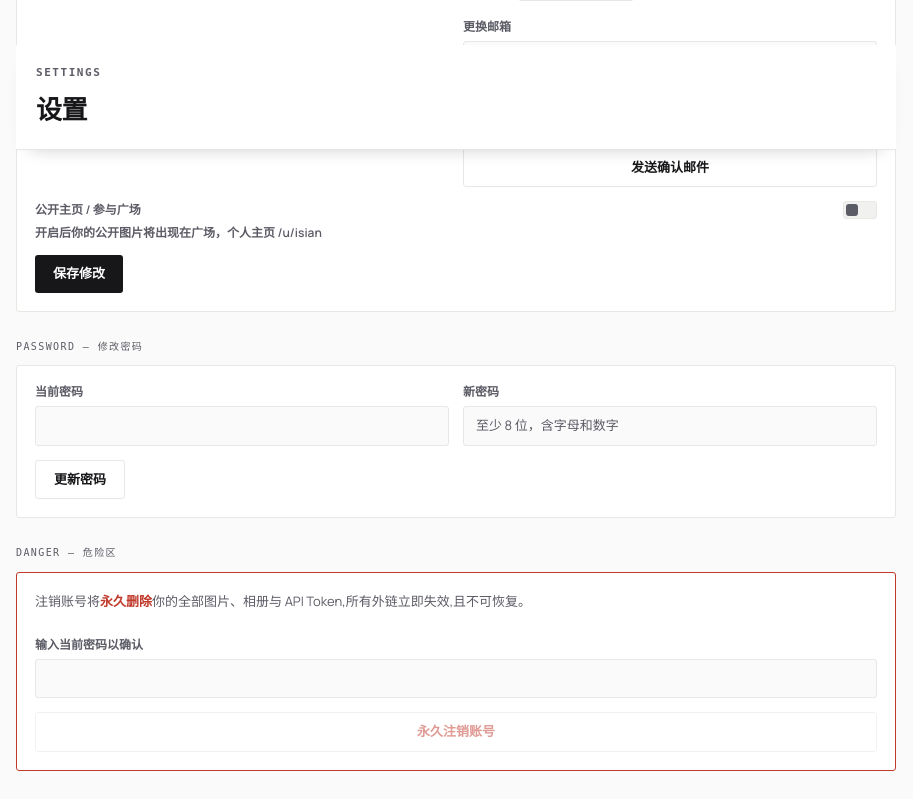
改密码：旧密码错显示行内错误且无全局 toast
(page scrolled)
In the password field labelled "当前密码": {"x": 242, "y": 426} [35,406,449,446], type "wrong-old-1"
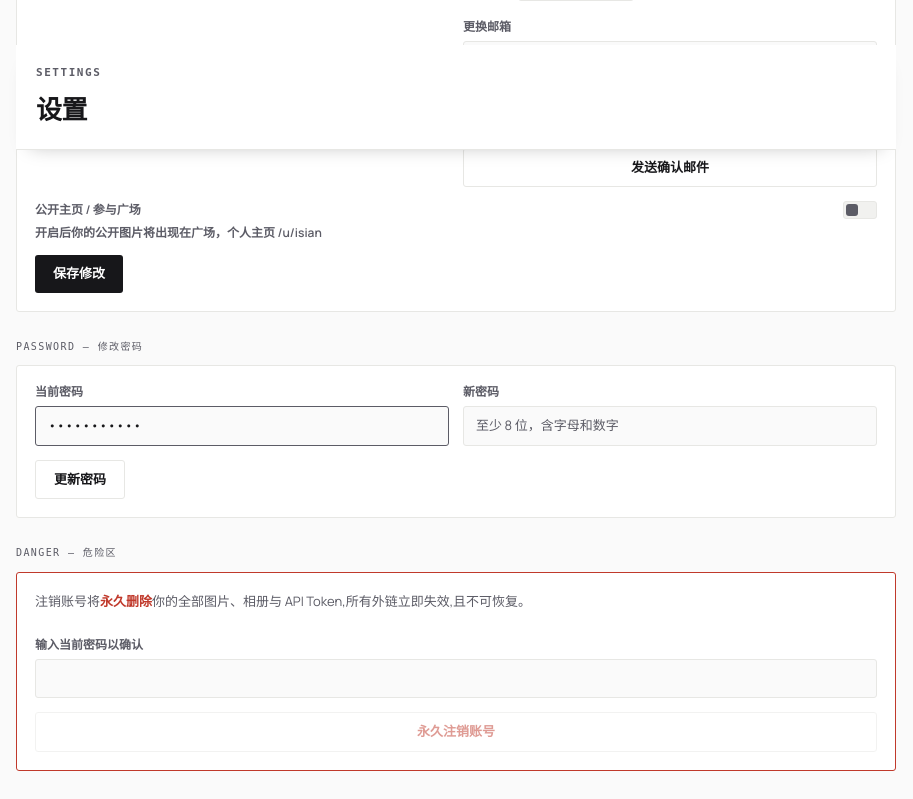
In the password field labelled "新密码": {"x": 670, "y": 426} [463,406,877,446], type "newpass4word"
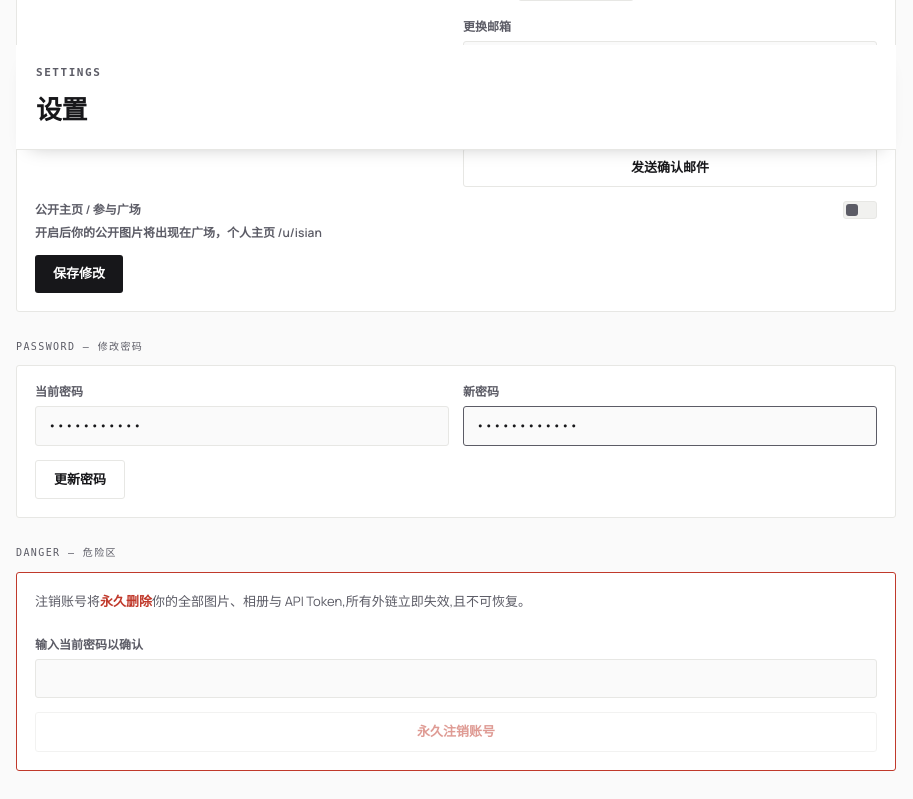
Click the button "更新密码": {"x": 80, "y": 480} [35,460,125,499]
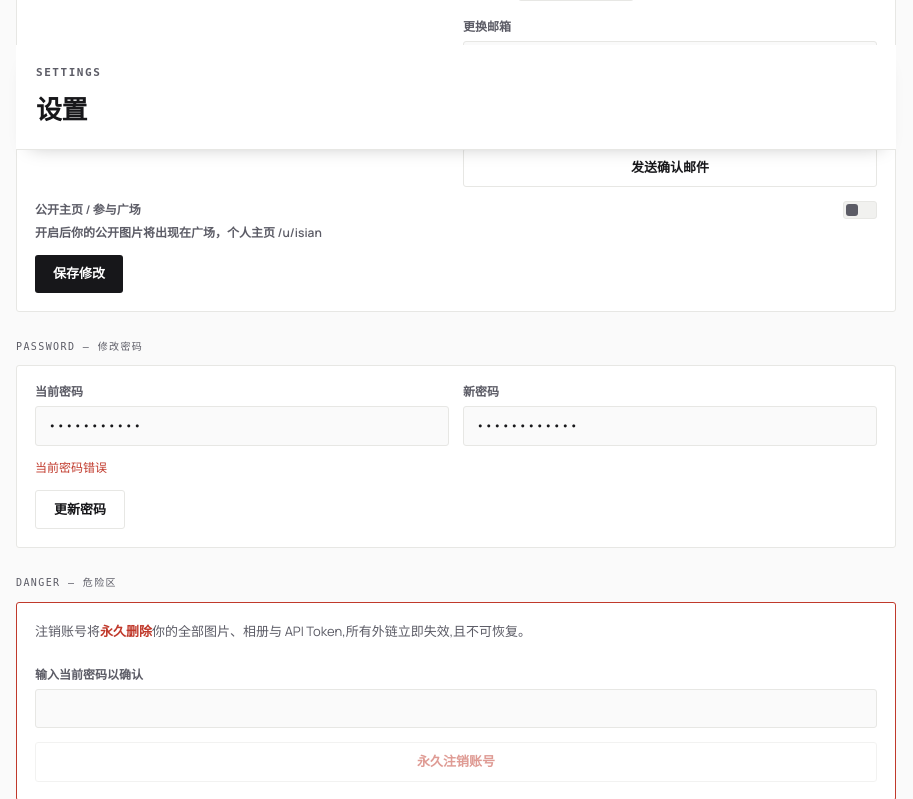
expect the text "当前密码错误" is shown: met, box [35,459,107,476]
